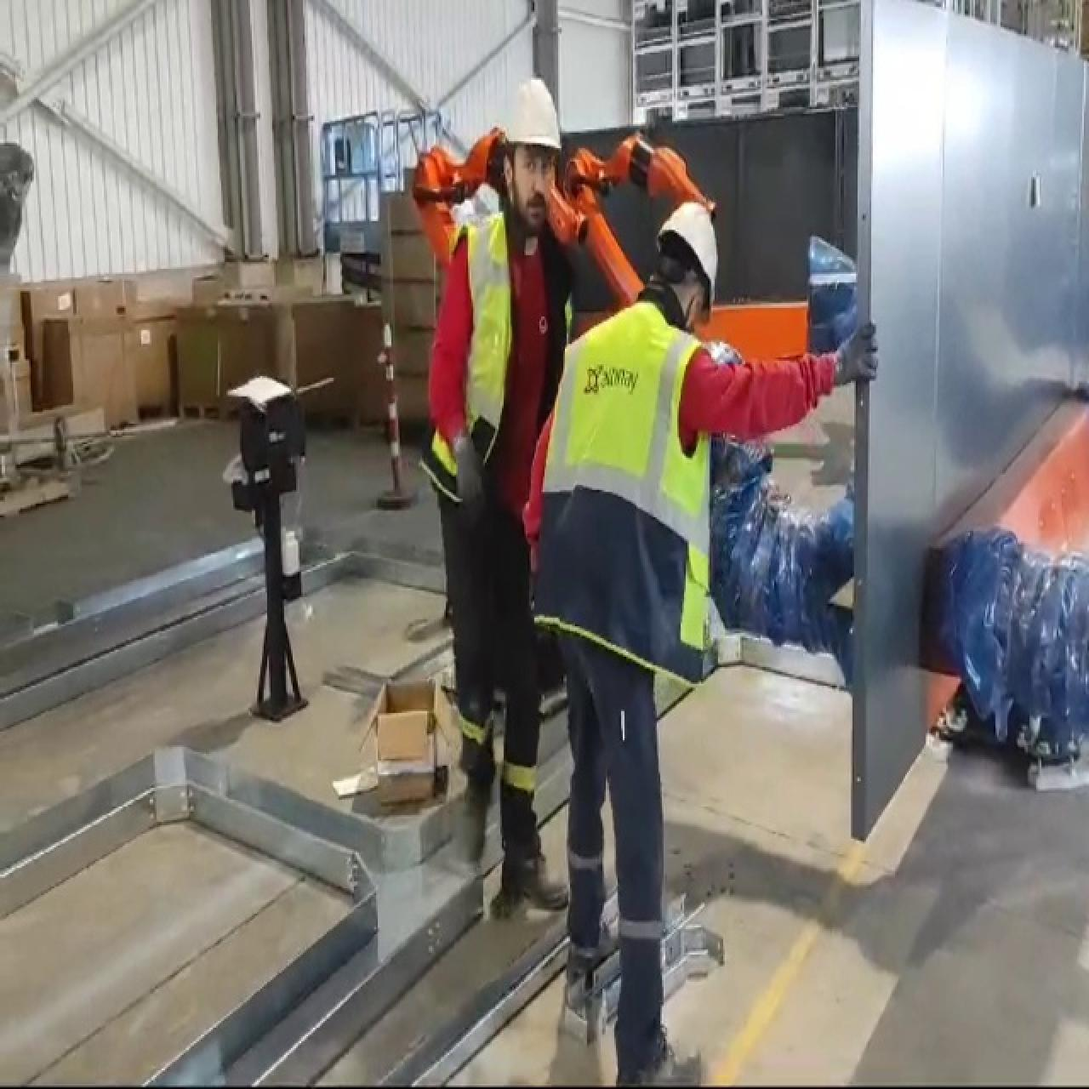Person: (527, 199, 864, 1076), (420, 52, 572, 894)
Safety_Vest: (542, 289, 754, 698), (419, 213, 582, 513)
